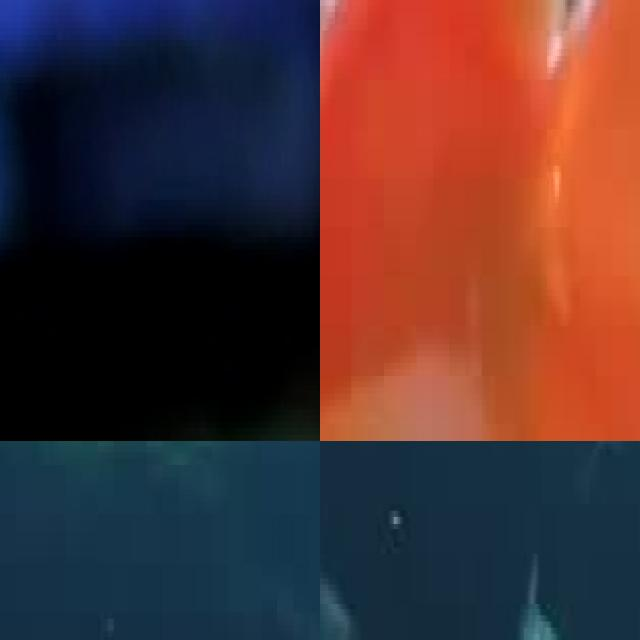fish: (0, 0, 320, 441)
